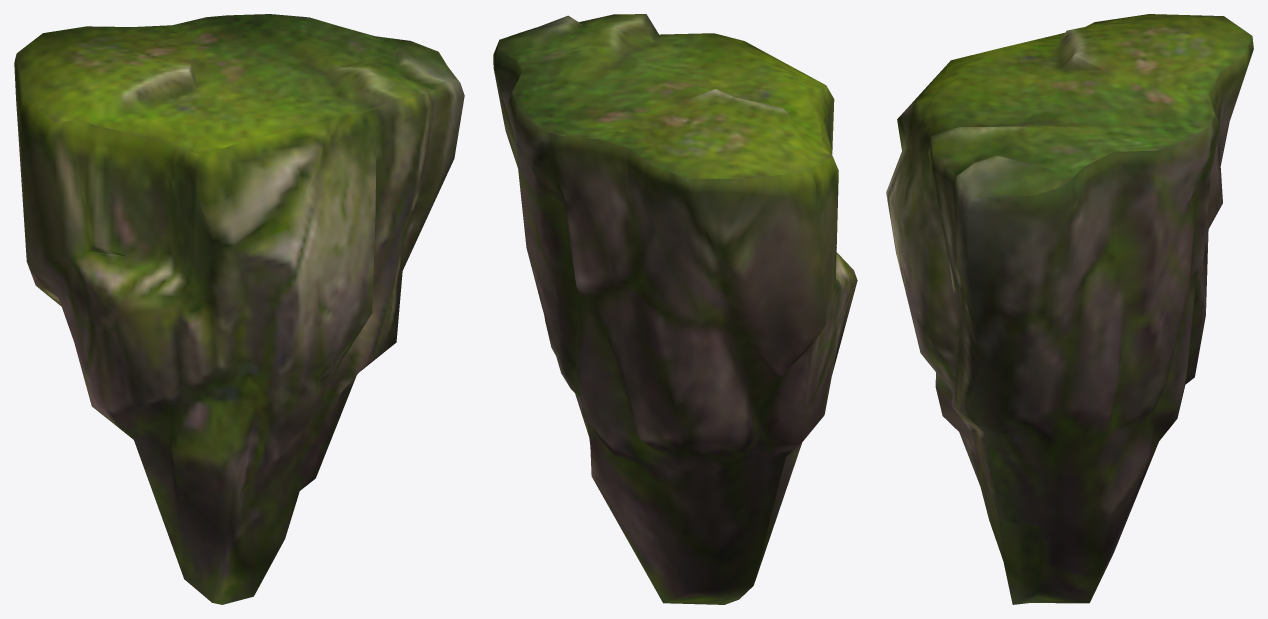
Rendered from S_Rock_Green013.FBX.
The picture shows the model from 3 angles, left to right: view 1: azimuth 30°, elevation 25°; view 2: azimuth 150°, elevation 25°; view 3: azimuth 270°, elevation 25°; orthographic projection. The views are drawn at different scales.
Visible parts, largest first — view 1: S_Rock_Green013; view 2: S_Rock_Green013; view 3: S_Rock_Green013.
Part boxes in pixels (<box>): S_Rock_Green013: <box>14,14,464,604</box>; S_Rock_Green013: <box>493,14,857,604</box>; S_Rock_Green013: <box>886,14,1253,604</box>.
Size of the model in its own units: 444 by 598 by 369.
